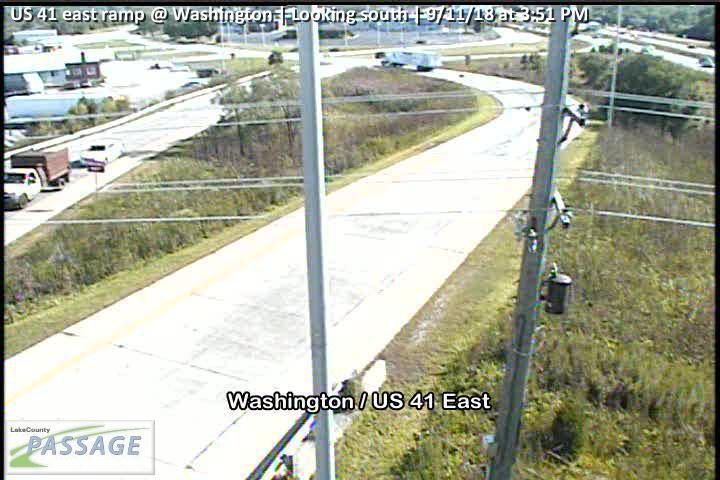SUV: (196, 67, 221, 80)
Sedan: (78, 139, 127, 166)
Truck: (2, 146, 73, 212), (380, 48, 443, 71)
